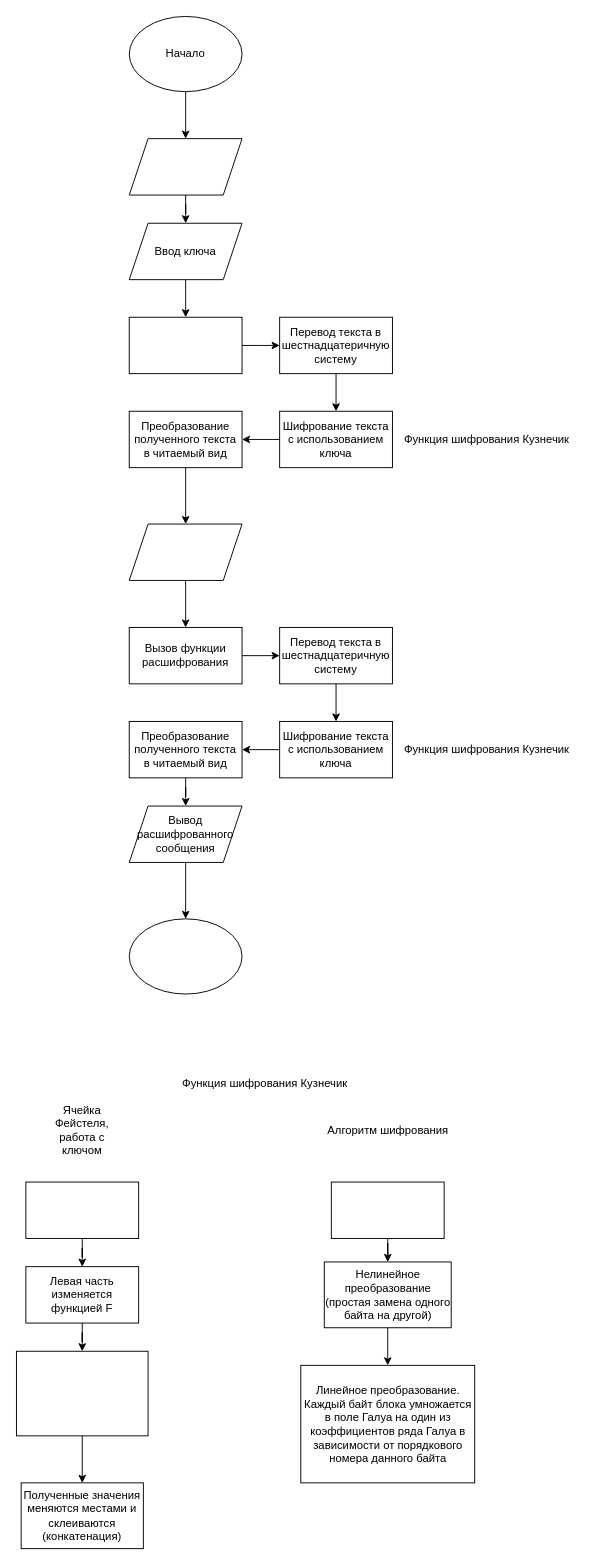
Some shapes in this 597 by 1565 pixel diagram are drawn without their labels. Each missing label, with the centre of its shape:
"Ввод текста для шифрования" belongs at (x=185, y=166).
"Вывод зашифрованного сообщения" belongs at (x=185, y=551).
"Вызов функции шифрование" belongs at (x=185, y=345).
"Конец" belongs at (x=185, y=956).
"Побитовый XOR ключа и входного блока данных" belongs at (x=387, y=1209).
"Полученное значение складывается с правой частью по модулю 2" belongs at (x=82, y=1393).
"Разделение ключа на 2 равные части" belongs at (x=82, y=1209).
